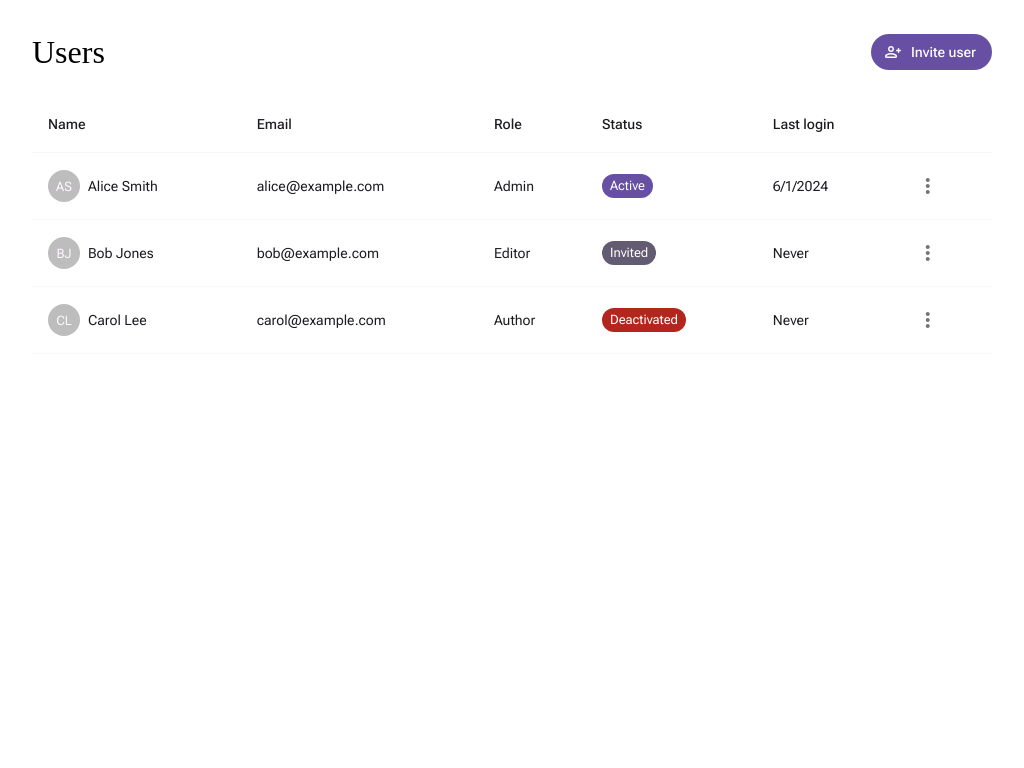
UsersPage › submits invite and shows success
The width and height of the screenshot is (1024, 768).
Click the button "Invite user": (932, 52) [871,34,992,70]
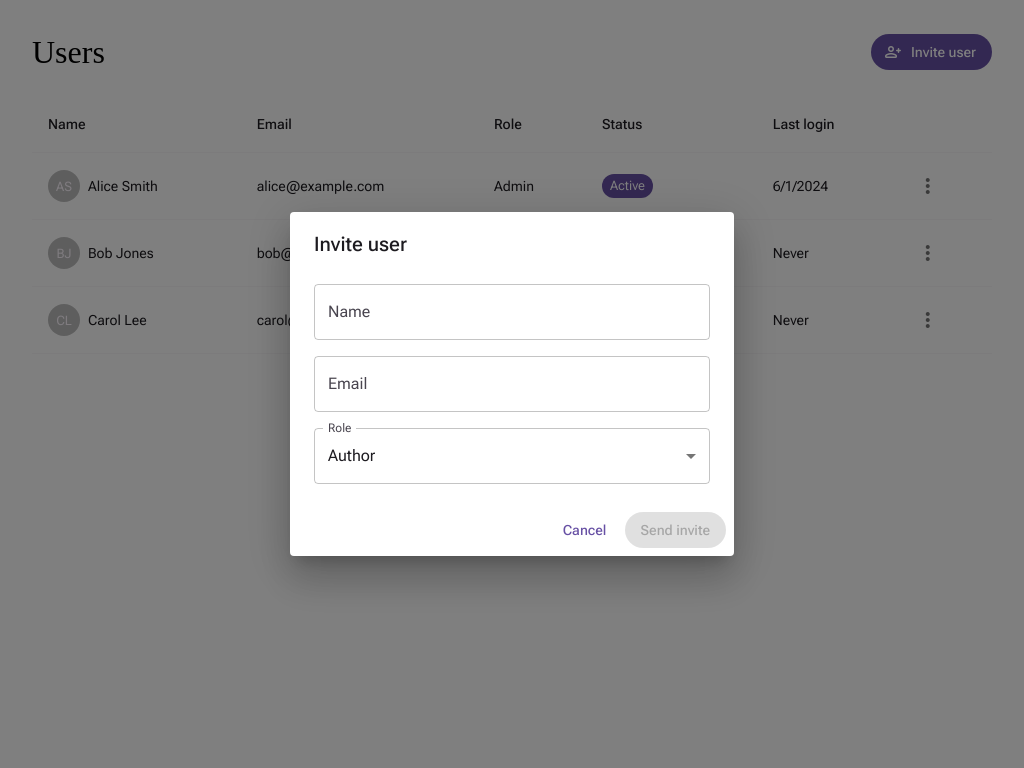
In the field labelled "Name": (512, 312) [314,284,710,340], type "New User"
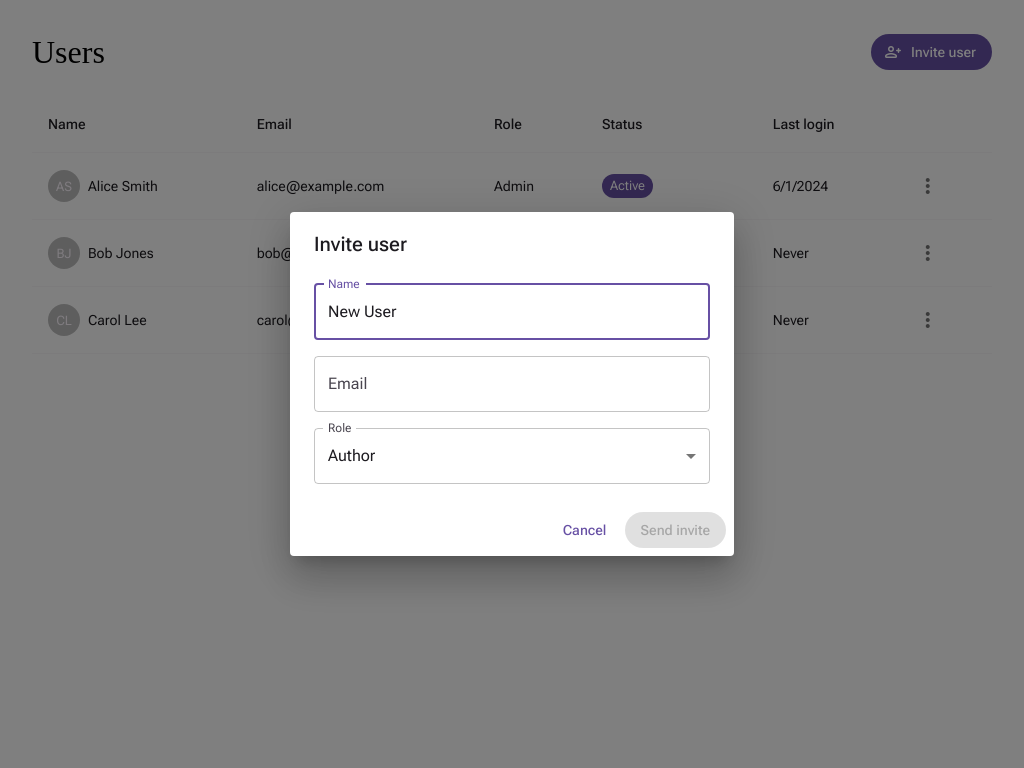
In the field labelled "Email": (512, 384) [314,356,710,412], type "new@example.com"
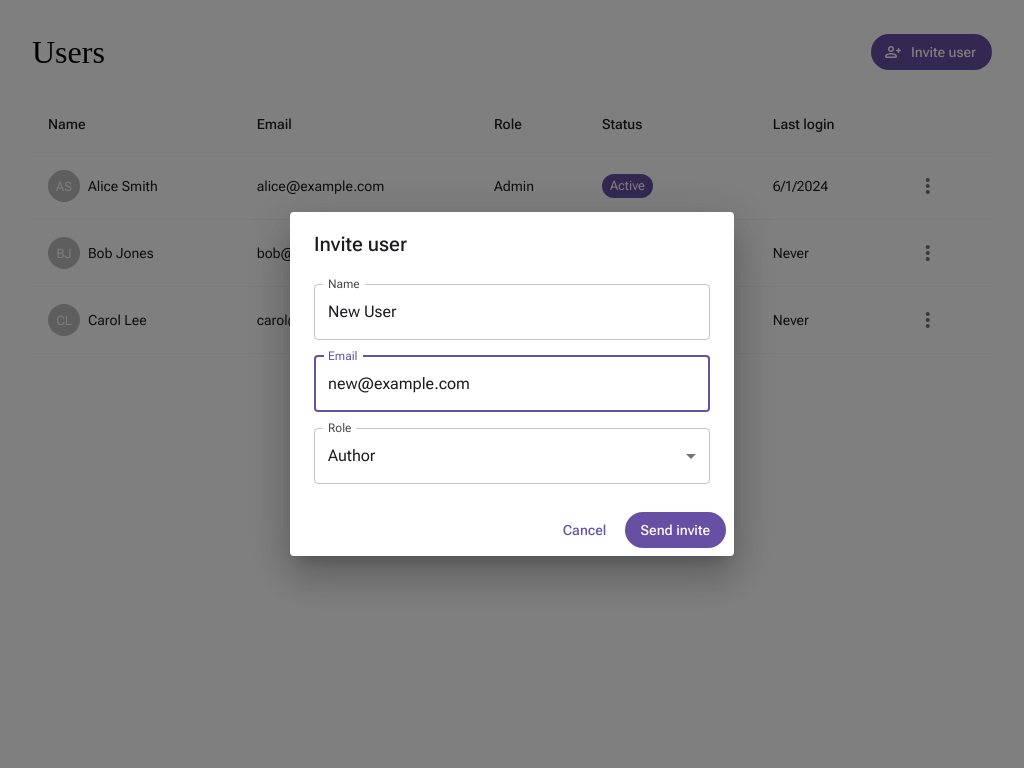
Click the button "Send invite": (675, 530) [625,512,726,548]
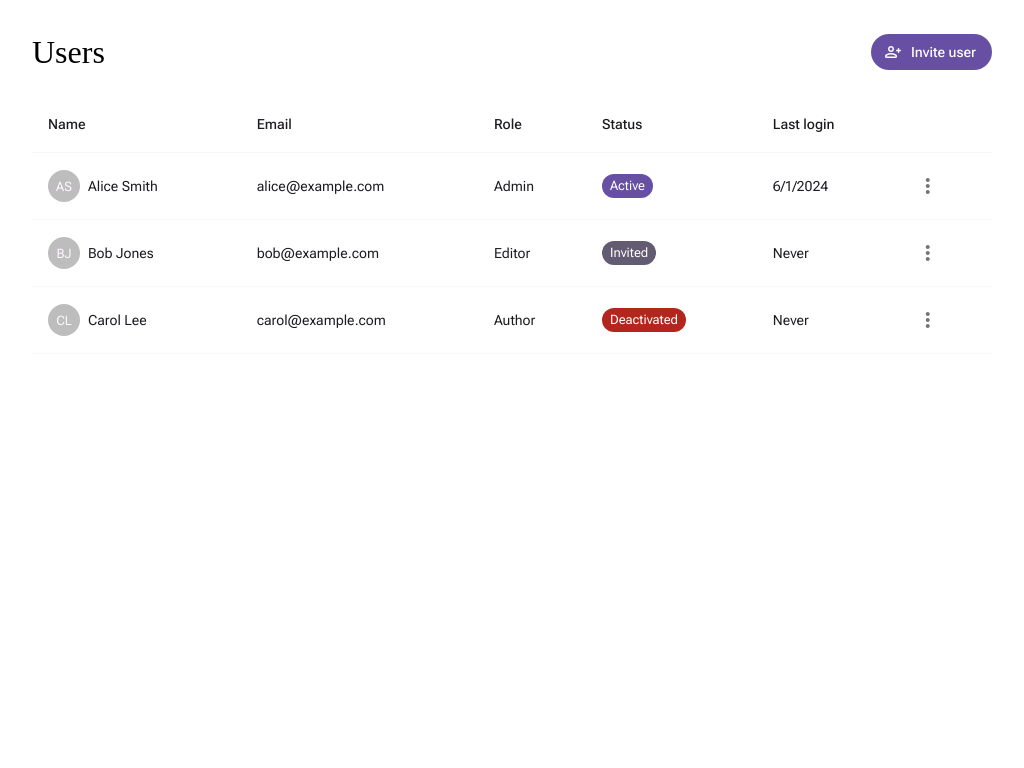
expect the dialog is gone: met
